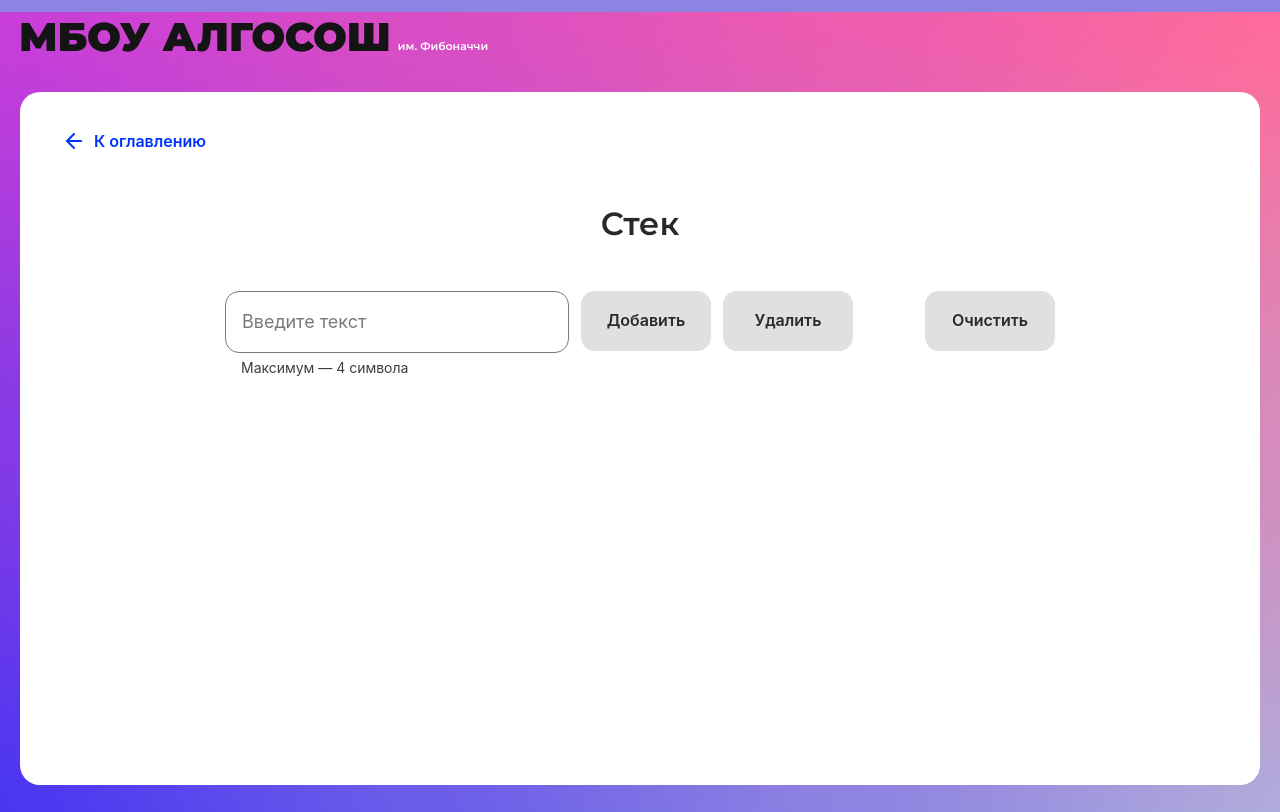
Scenario: Алгоритм работы кнопок на странице "Стек" › кнопка Добавить деактивируется при очистке input
Type "t" into the field with placeholder "Введите текст".
click(397, 322); type("t")  # box [225,291,569,353]
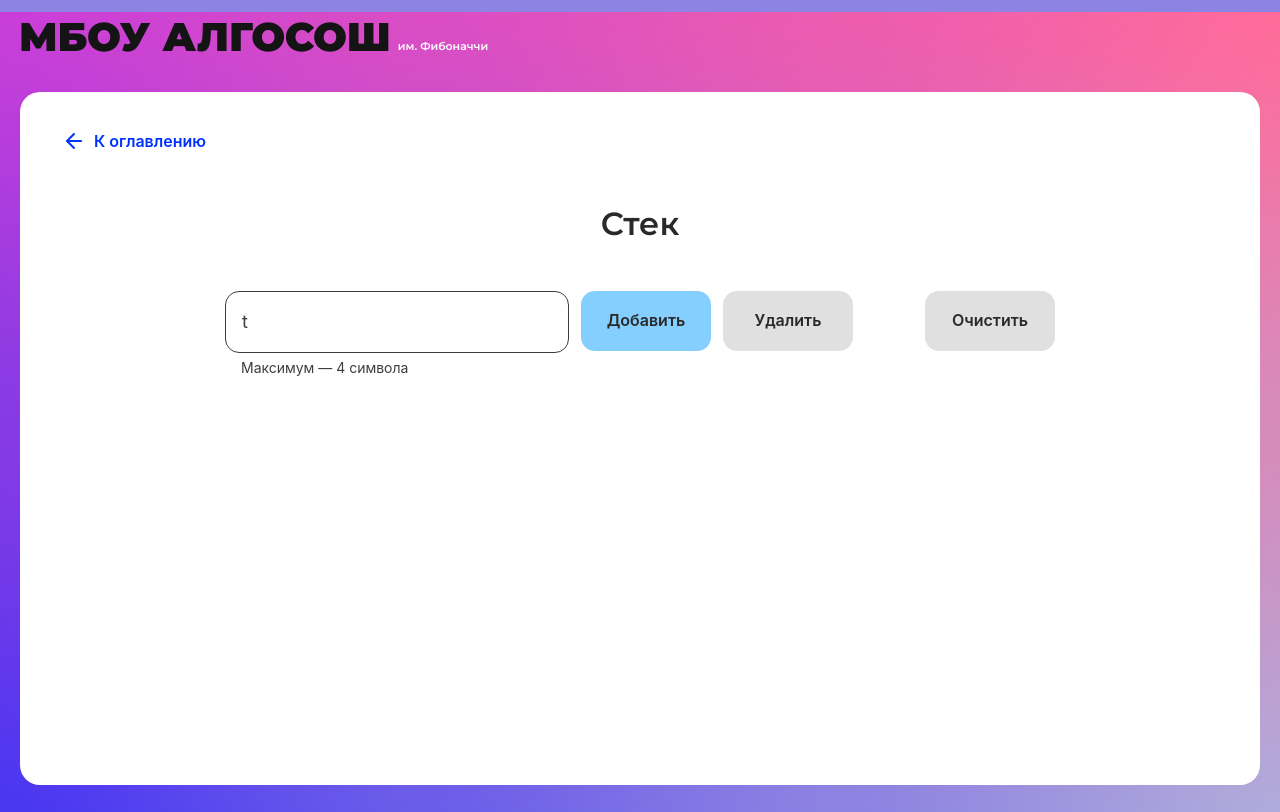
Expected: the element with test id "push" is enabled
Clear the field at (397, 322), box [225,291,569,353]
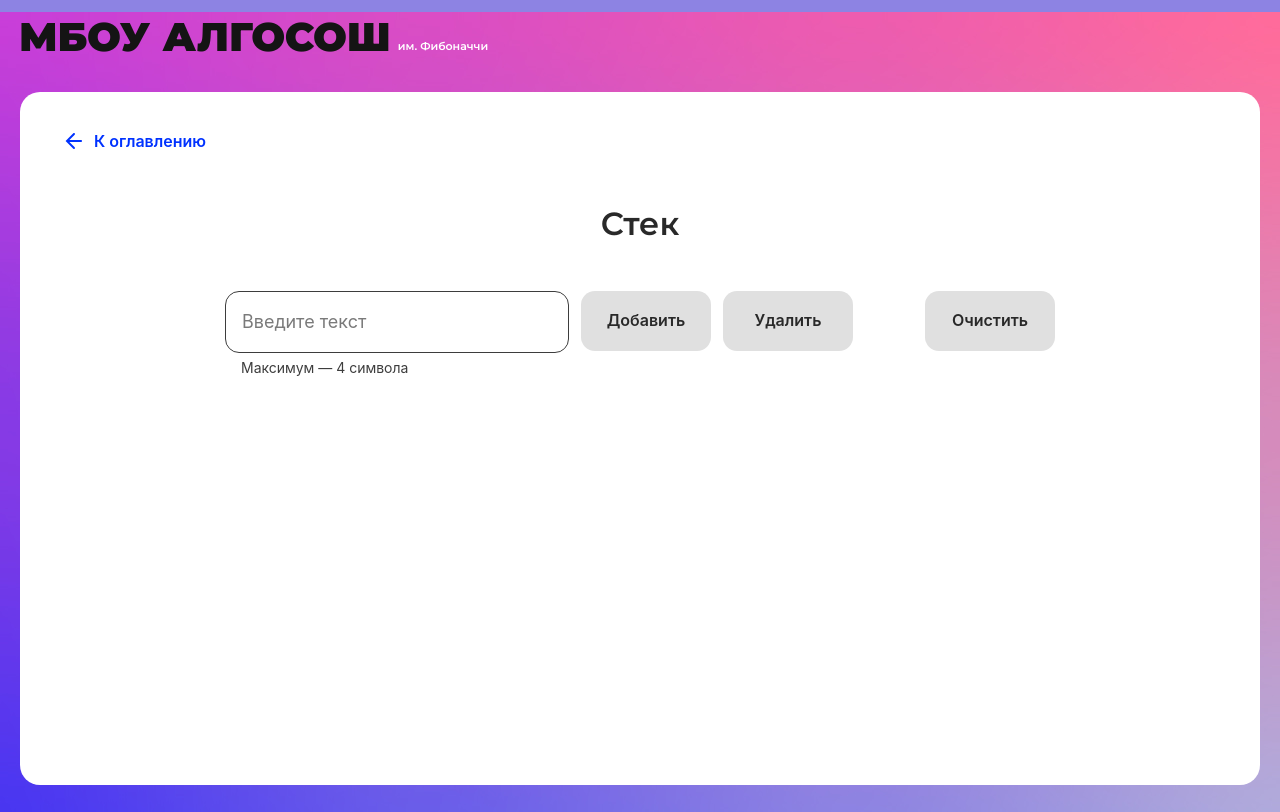
Now the button with test id "push" is disabled, box [581,291,711,351]
